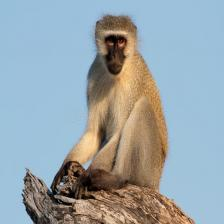monkey: (51, 10, 170, 197)
